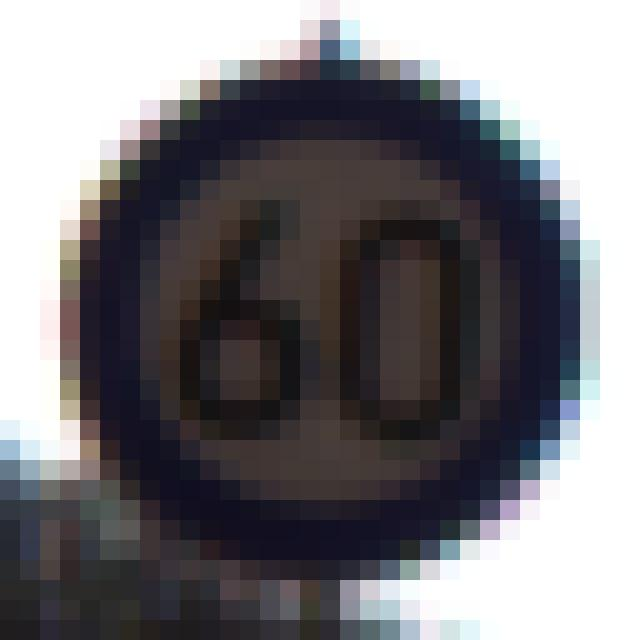SPEED-LIMIT-60: (49, 35, 612, 590)
